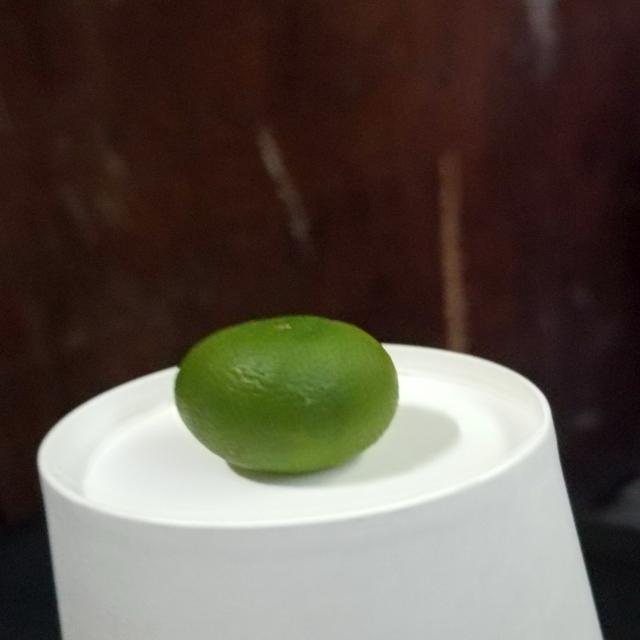heathy: (168, 314, 406, 481)
